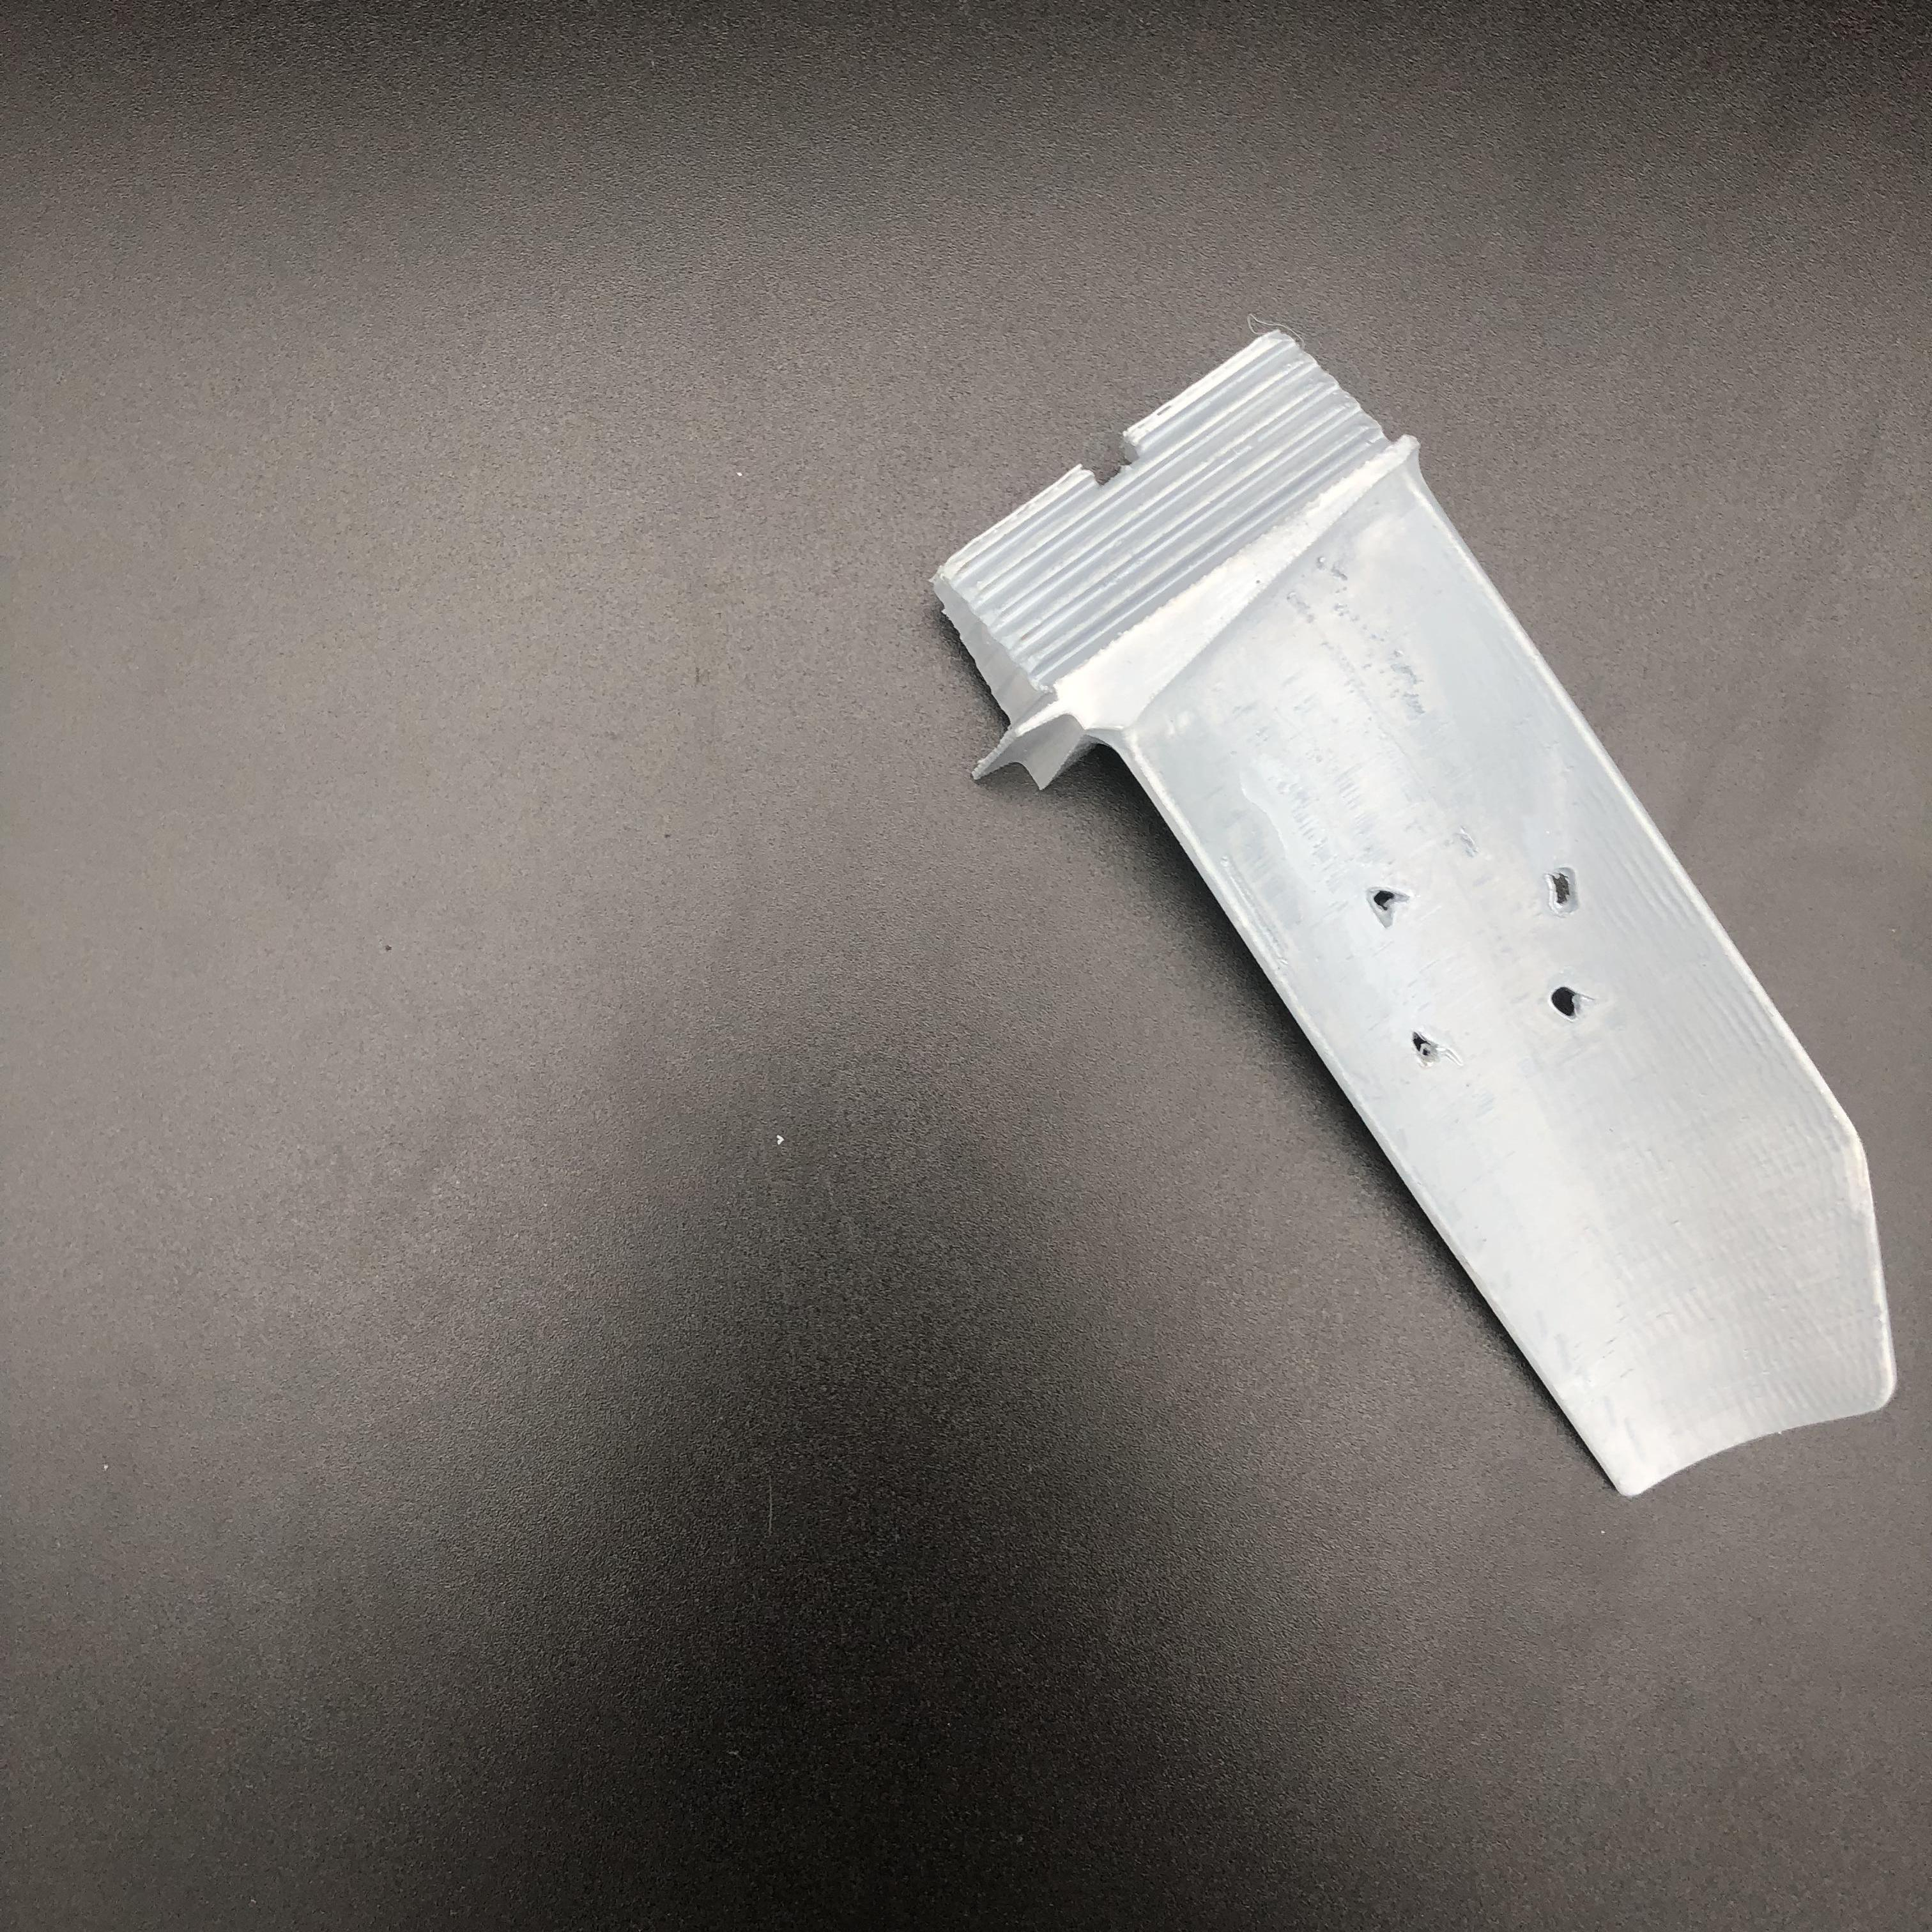breakdown: (1369, 847, 1594, 1086)
